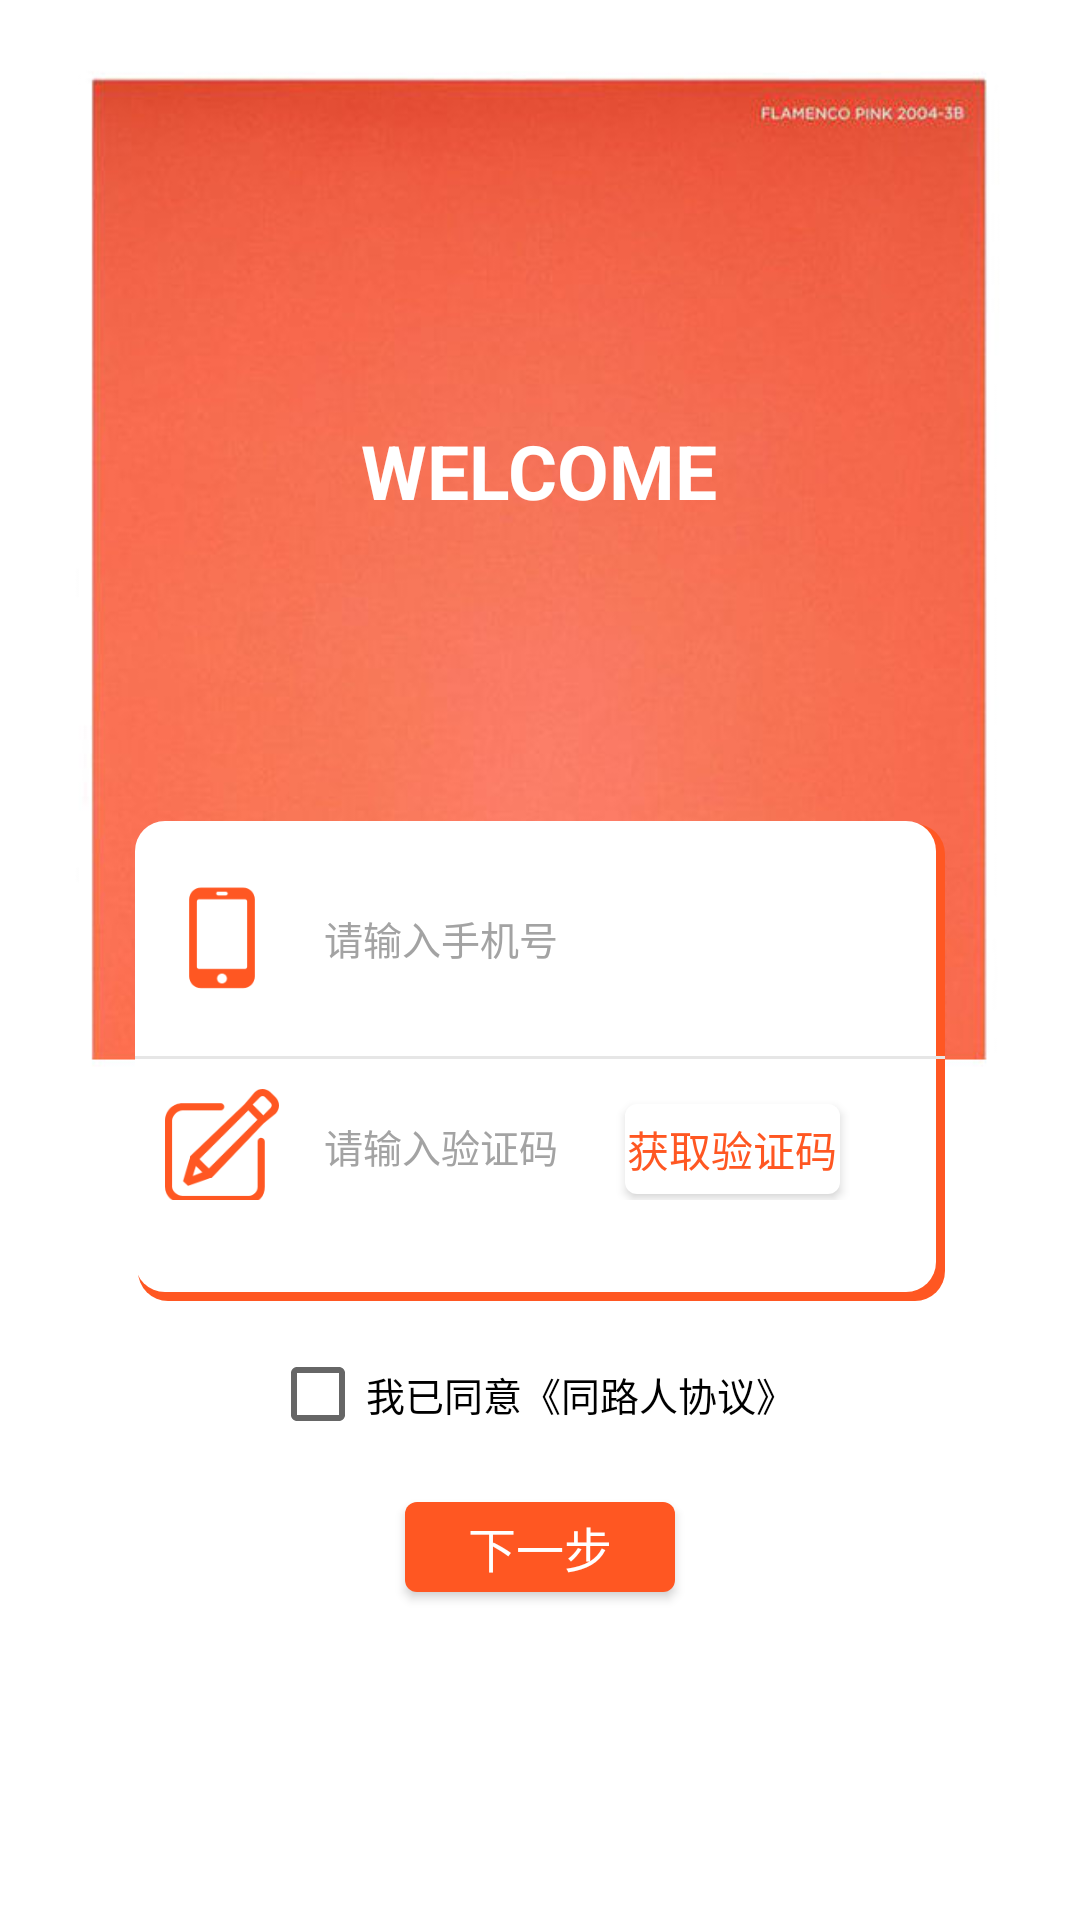

Icons on this 1080w x 1920h Android screen, each with its box as {"left": x1, "top": y1, "right": x2, "bottom": y2}:
mobile: {"left": 189, "top": 887, "right": 255, "bottom": 989}
